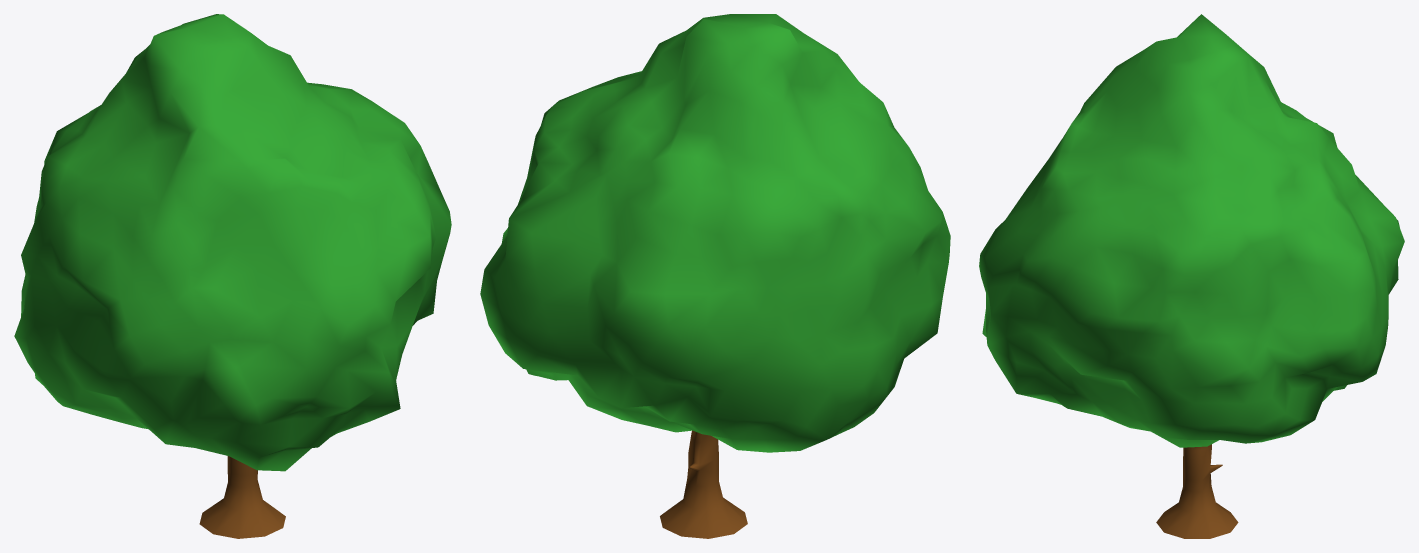
The model's file is bush.fbx.
The picture shows the model from 3 angles, left to right: view 1: azimuth 30°, elevation 25°; view 2: azimuth 150°, elevation 25°; view 3: azimuth 270°, elevation 25°; orthographic projection. The views are drawn at different scales.
Visible parts, largest first — view 1: Icosphere.001; view 2: Icosphere.001; view 3: Icosphere.001.
Boxes of the visible parts, left/top/right/bottom form: Icosphere.001: left=14, top=14, right=451, bottom=538; Icosphere.001: left=480, top=14, right=950, bottom=538; Icosphere.001: left=979, top=14, right=1404, bottom=538.
Bounding box in the file's own units: 212 × 265 × 218.
